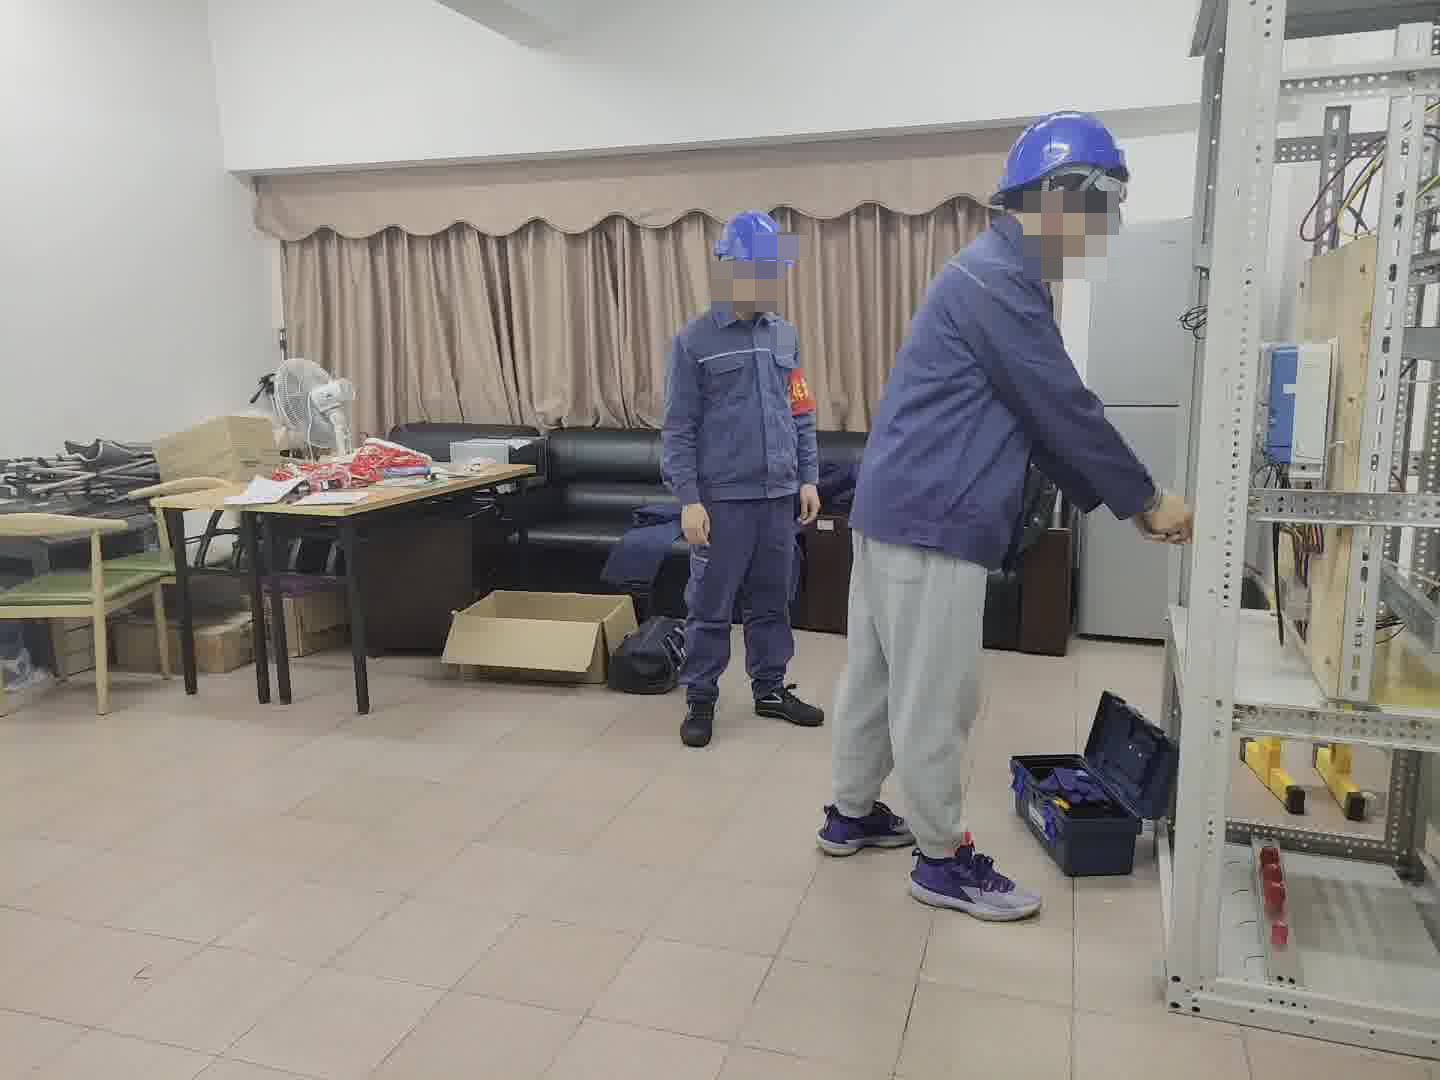badge: (786, 367, 818, 422)
downcloth: (828, 557, 991, 847)
downsuit: (679, 506, 802, 703)
fhalt: (988, 108, 1131, 271)
halt: (708, 207, 800, 315)
hand: (1135, 488, 1194, 546), (680, 503, 711, 550), (797, 484, 820, 526)
inear: (1033, 166, 1091, 255), (716, 256, 748, 300)
person: (816, 108, 1194, 918), (653, 202, 824, 743)
upsuit: (853, 211, 1158, 553), (662, 306, 814, 493)
